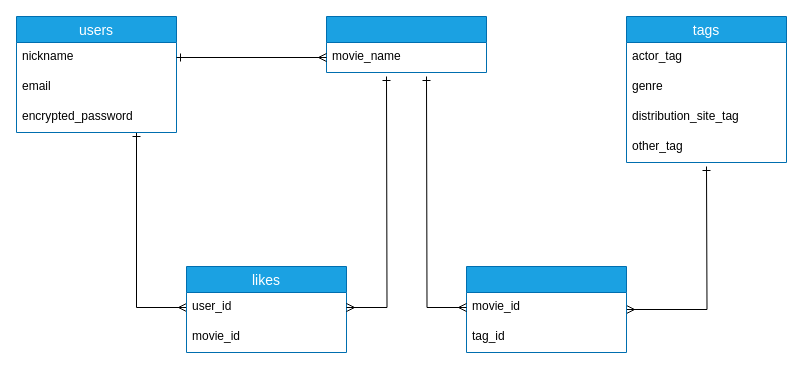
Some shapes in this 803 by 369 pixel diagram are drawn without their labels. The shapes that lost their labels are listed below. From the top down, each one's box as (x1, y1, x2, y2) in pixels, then its label:
(326, 16, 486, 72): movies
(466, 266, 626, 352): tag_maps
